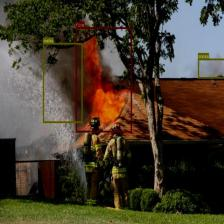fire: (76, 27, 132, 132)
smoke: (43, 43, 82, 122), (197, 58, 224, 78)
